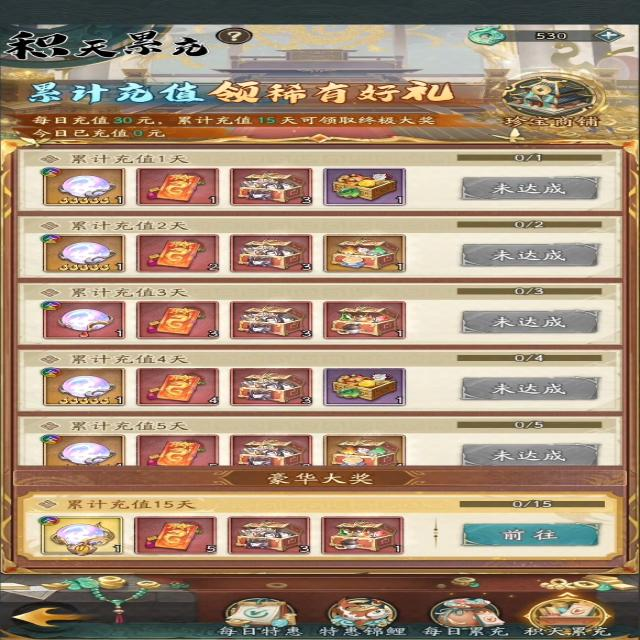navigation-DailyDiscount: (208, 596, 309, 640)
navigation-dailySum: (416, 596, 515, 638)
navigation-jitianSum: (524, 593, 618, 639)
navigation-tehuijinli: (318, 596, 412, 638)
navigation-treasureMall: (482, 67, 616, 132)
operation-back: (9, 602, 85, 632)
operation-confirm: (450, 521, 609, 549)
operation-confirm-off: (452, 439, 602, 469), (453, 307, 607, 336), (452, 373, 602, 402), (455, 241, 607, 269), (453, 174, 605, 200)
ref-buytext: (29, 350, 196, 366), (29, 218, 206, 233), (29, 496, 208, 510), (29, 151, 194, 166), (29, 284, 196, 298), (33, 419, 201, 432)
